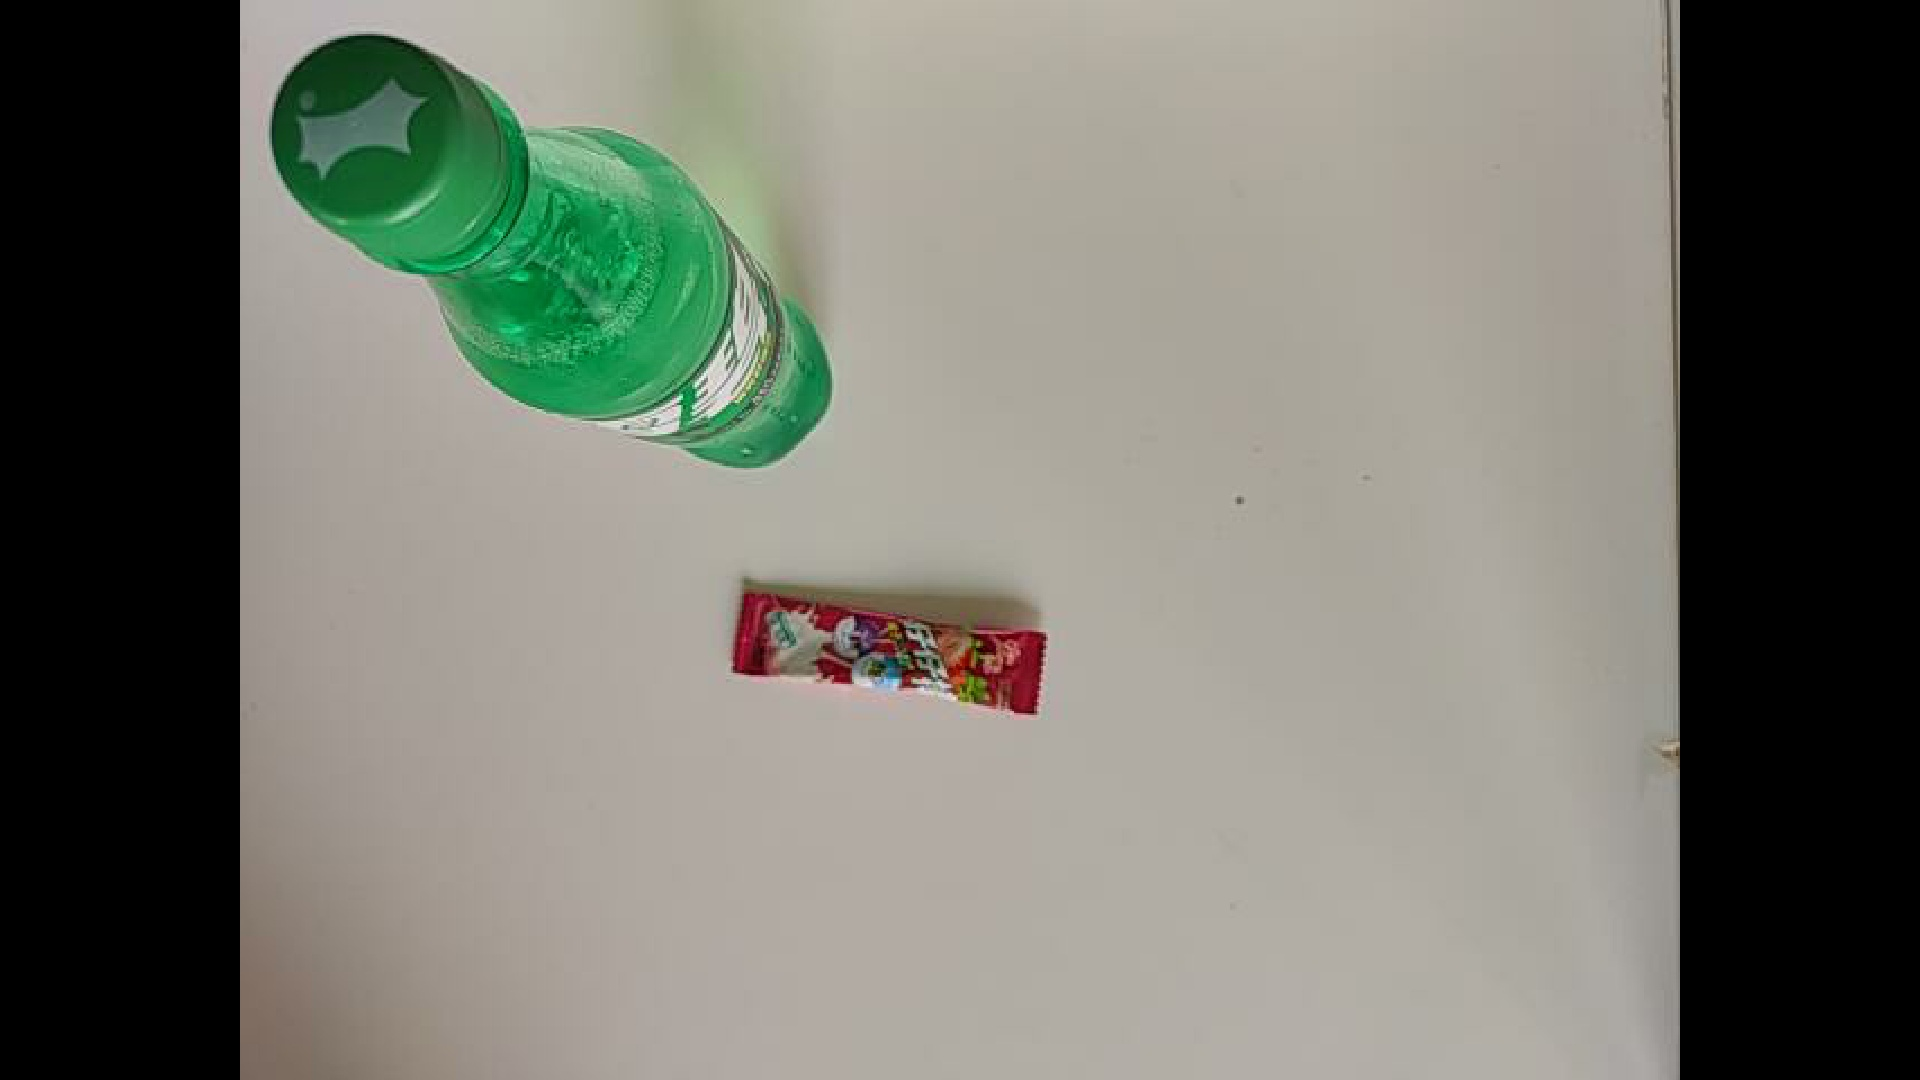sprite: (268, 32, 836, 472)
sugar: (719, 588, 1051, 702)
